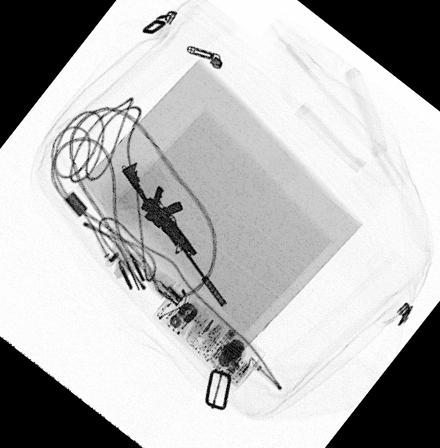Gun: (120, 161, 227, 308)
